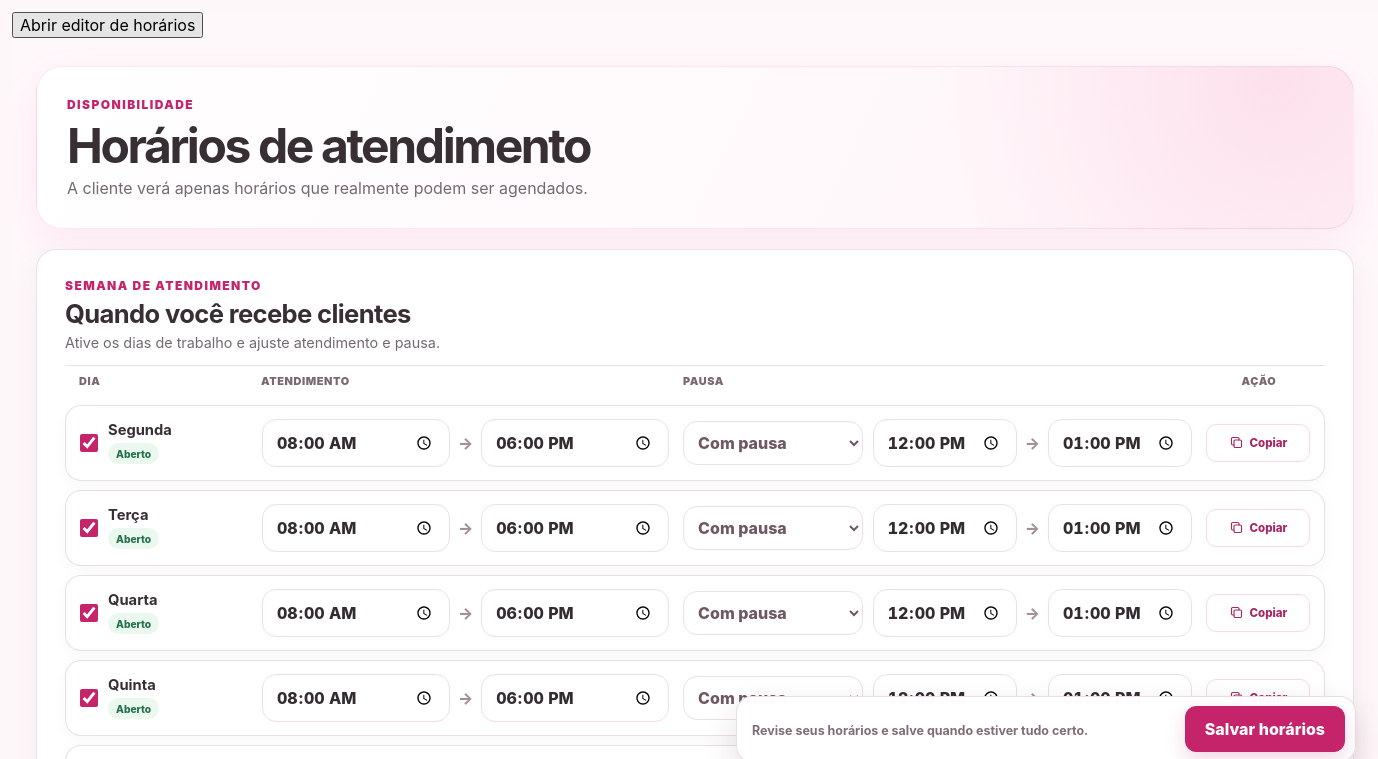
configuração de horários › não repete a missão de primeira configuração em edições posteriores
What coordinates should you click on to do the following:
click the button "Salvar horários"
I would click on:
 (1265, 729)
Its box is [1185, 706, 1345, 752].
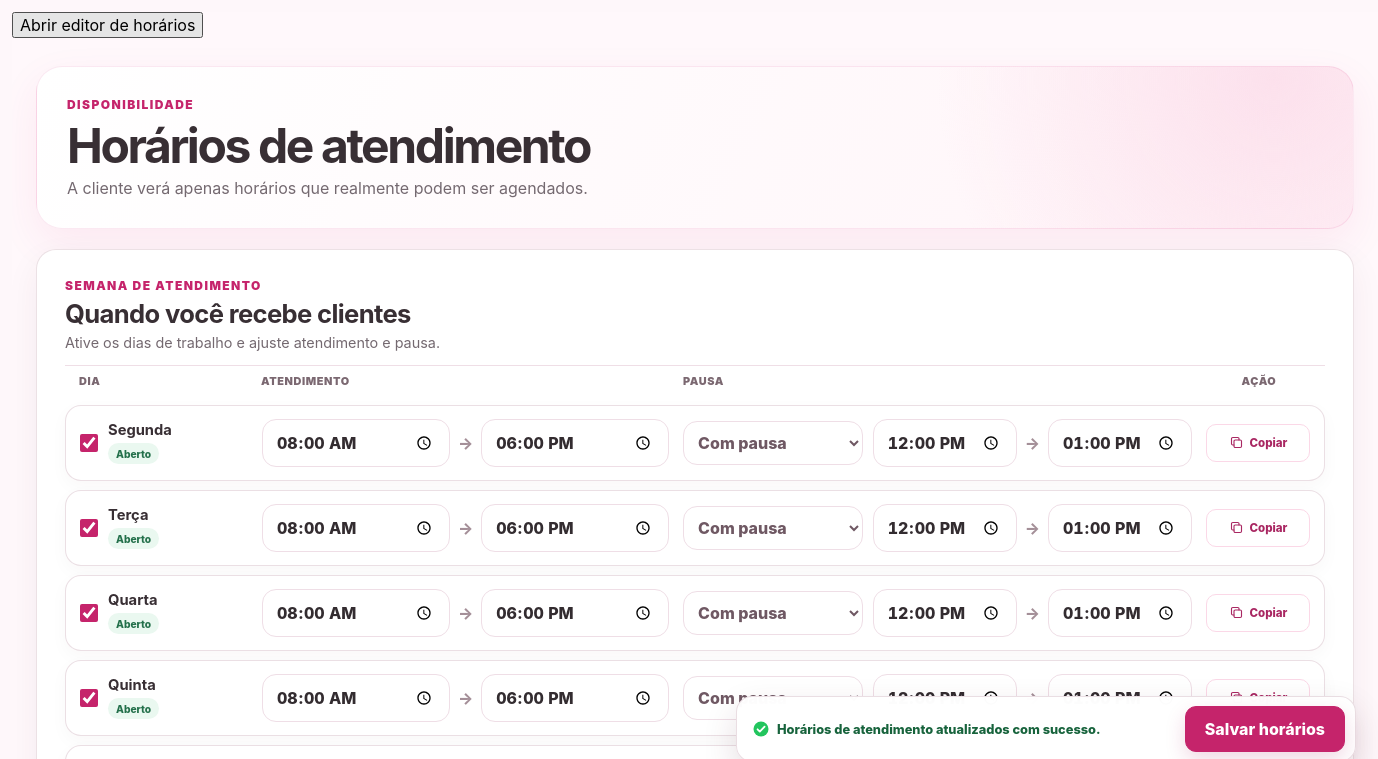
Expected: the text "Horários de atendimento atualizados com sucesso." is shown, [752, 720, 1100, 738]
